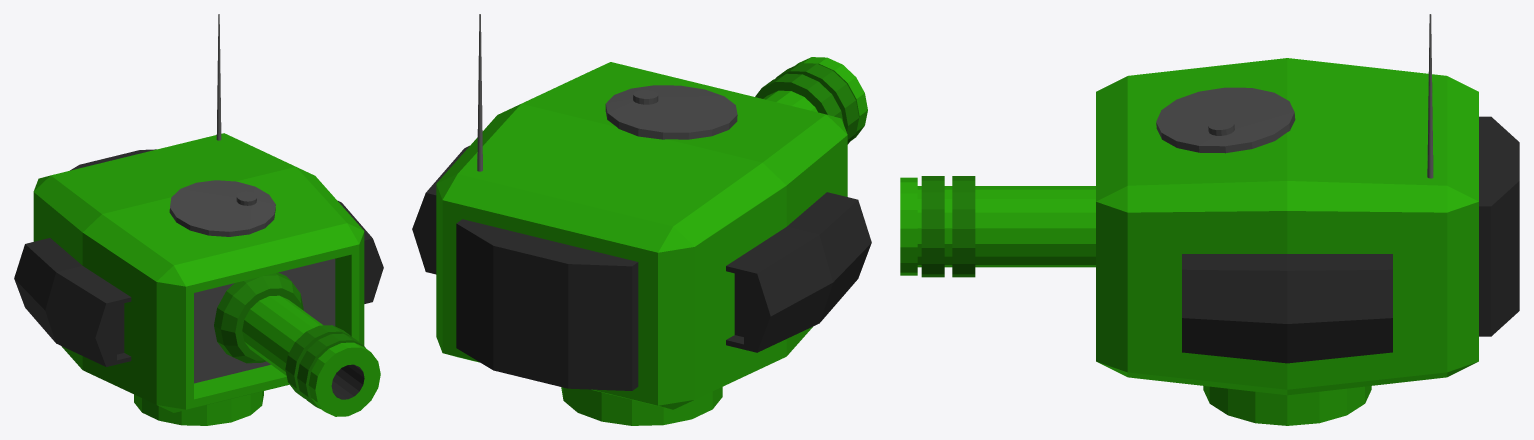
File: Cabina1.fbx
The picture shows the model from 3 angles, left to right: view 1: azimuth 30°, elevation 25°; view 2: azimuth 150°, elevation 25°; view 3: azimuth 270°, elevation 25°; orthographic projection. The views are drawn at different scales.
Parts seen in each view (by area): view 1: Gun_21.001; view 2: Gun_21.001; view 3: Gun_21.001.
Boxes of the visible parts, x1=… form: Gun_21.001: x1=14, y1=14, x2=383, y2=425; Gun_21.001: x1=412, y1=14, x2=871, y2=425; Gun_21.001: x1=900, y1=14, x2=1519, y2=425.
Bounding box in the file's own units: 145 × 147 × 195.
